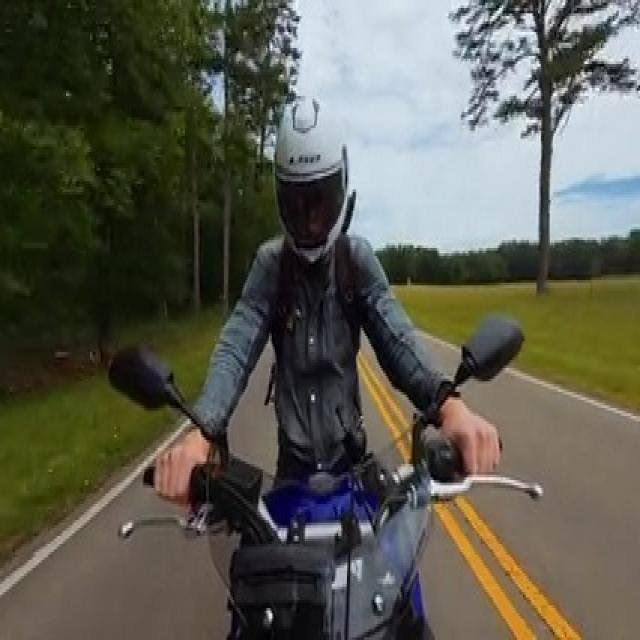Helmet_Wearer: (266, 87, 355, 261)
Person: (152, 95, 496, 499)
